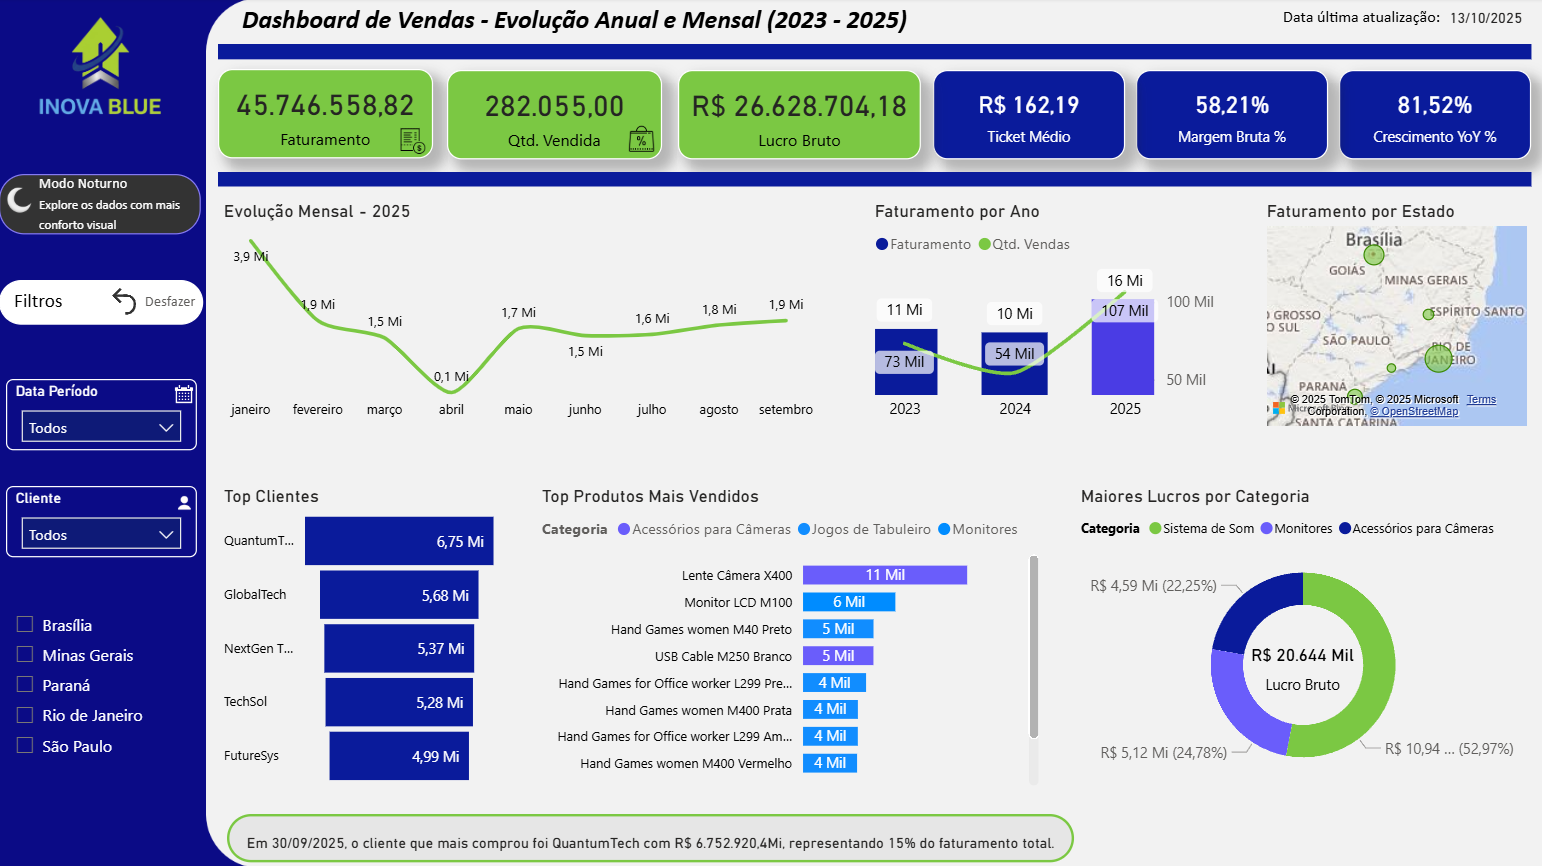

The dashboard page shown, as its layout file describes it:
{"tool":"powerbi","page":{"name":"Dark","canvas":[1280,720],"ordinal":1},"visuals":[{"type":"shape","box":[2.6,148.4,166.8,49.2],"z":0},{"type":"lineClusteredColumnComboChart","title":"Faturamento por Ano","fields":{"Category":["Vendas.Data da Venda.Variation.Hierarquia de datas.Ano","Vendas.Data da Venda.Variation.Hierarquia de datas.Mês","Vendas.Data da Venda.Variation.Hierarquia de datas.Dia"],"Y":["Vendas.Faturamento"],"Y2":["Sum(Vendas.Qtd. Vendida)"]},"box":[745.9,168.1,290.7,190.4],"z":1000},{"type":"image","box":[3.5,8.8,160.7,99.2],"z":2000},{"type":"funnel","title":"Top Clientes","fields":{"Category":["Clientes.Nome Fantasia"],"Y":["Vendas.Faturamento"]},"box":[183,404.1,238,252.8],"z":3000},{"type":"textbox","box":[198,0,669.9,50.8],"z":4000},{"type":"lineChart","title":"Evolução Mensal - 2025","fields":{"Category":["Vendas.Data da Venda.Variation.Hierarquia de datas.Mês"],"Y":["Vendas.Faturamento"]},"box":[183,168.1,550.8,190.4],"z":5000},{"type":"card","fields":{"Values":["Vendas.Faturamento"]},"box":[182.9,58.9,177.5,74],"z":6000},{"type":"card","fields":{"Values":["Sum(Vendas.Qtd. Vendida)"]},"box":[372.4,59.2,177.7,74],"z":7000},{"type":"card","fields":{"Values":["Vendas.Crescimento YoY %"]},"box":[1110.7,59.2,158.7,74],"z":8000},{"type":"shape","box":[183,38.1,1087.5,12.7],"z":9000},{"type":"card","fields":{"Values":["Vendas.Media Faturamento Mensal"]},"box":[942.5,59.2,158.7,74],"z":10000},{"type":"card","fields":{"Values":["Vendas.Ticket Médio"]},"box":[774.3,59.2,158.7,74],"z":11000},{"type":"card","fields":{"Values":["Vendas.Lucro Bruto"]},"box":[563.8,59.2,201,74],"z":12000},{"type":"map","title":"Faturamento por Estado","fields":{"Category":["Vendas.Estado"],"Size":["Vendas.Faturamento"]},"box":[1046,167.8,224.7,190.6],"z":13000},{"type":"card","fields":{"Values":["Vendas.Insight Texto"]},"box":[190,675.2,701.1,40.1],"z":14000},{"type":"barChart","title":"Top Produtos Mais Vendidos","fields":{"Category":["Vendas.Produto"],"Series":["Vendas.Categoria"],"Y":["Sum(Vendas.Qtd. Vendida)"]},"box":[446.4,404.1,421,252.8],"z":15000},{"type":"shape","box":[183.3,143.9,1087.4,12.4],"z":16000},{"type":"donutChart","title":"Maiores Lucros por Categoria","fields":{"Category":["Vendas.Categoria"],"Y":["Vendas.Lucro Bruto"]},"box":[891.8,404.1,377.7,252.8],"z":17000},{"type":"card","fields":{"Values":["Vendas.Lucro Bruto"]},"box":[1027.2,525.8,106.8,54],"z":18000},{"type":"image","box":[516.2,97.3,33.9,38.1],"z":19000},{"type":"image","box":[324.8,97.3,34.9,38.1],"z":20000},{"type":"card","fields":{"Values":["Vendas.DataAtualizacaoHoje"]},"box":[1194.5,0,76.2,35.3],"z":21000},{"type":"textbox","box":[1058.9,1.1,173.5,36],"z":22000},{"type":"textbox","box":[9.3,235.9,78,31.6],"z":23000},{"type":"actionButton","box":[89.2,231.2,79,39],"z":24000},{"type":"slicer","fields":{"Values":["Vendas.Estado"]},"box":[3.7,500.7,164.4,177.4],"z":25000},{"type":"slicer","title":"     Data Período","fields":{"Values":["Vendas.Data da Venda.Variation.Hierarquia de datas.Ano","Vendas.Data da Venda.Variation.Hierarquia de datas.Mês","Vendas.Data da Venda.Variation.Hierarquia de datas.Dia"]},"box":[7.4,315,157.9,58.5],"z":26000},{"type":"slicer","title":"Cliente","fields":{"Values":["Clientes.Nome Fantasia"]},"box":[7.4,404.1,157.9,58.5],"z":27000},{"type":"shape","box":[1.9,233.1,169.1,37.2],"z":28000},{"type":"image","box":[136.5,402.3,36.2,26.9],"z":29000},{"type":"image","box":[132.8,315,42.7,25.1],"z":30000},{"type":"actionButton","box":[91.9,231.7,78.6,39.7],"z":31000},{"type":"textbox","box":[5.3,236.2,82.5,35.1],"z":32000},{"type":"textbox","box":[32.2,140.9,131.7,67.2],"z":33000},{"type":"image","box":[1.8,157.2,36.9,34.2],"z":34000},{"type":"actionButton","box":[4.1,144,165.5,57.9],"z":35000}]}

Visuals, with their boxes in screenshot pixels (x1, y1, x2, y2), scaled from the page's 1280x720 canvas onto the 1542x866 screenshot:
shape: x1=3, y1=178, x2=204, y2=238
"Faturamento por Ano" lineClusteredColumnComboChart: x1=899, y1=202, x2=1249, y2=431
image: x1=4, y1=11, x2=198, y2=130
"Top Clientes" funnel: x1=220, y1=486, x2=507, y2=790
textbox: x1=239, y1=0, x2=1046, y2=61
"Evolução Mensal - 2025" lineChart: x1=220, y1=202, x2=884, y2=431
card - Vendas.Faturamento: x1=220, y1=71, x2=434, y2=160
card - Sum(Vendas.Qtd. Vendida): x1=449, y1=71, x2=663, y2=160
card - Vendas.Crescimento YoY %: x1=1338, y1=71, x2=1529, y2=160
shape: x1=220, y1=46, x2=1531, y2=61
card - Vendas.Media Faturamento Mensal: x1=1135, y1=71, x2=1327, y2=160
card - Vendas.Ticket Médio: x1=933, y1=71, x2=1124, y2=160
card - Vendas.Lucro Bruto: x1=679, y1=71, x2=921, y2=160
"Faturamento por Estado" map: x1=1260, y1=202, x2=1531, y2=431
card - Vendas.Insight Texto: x1=229, y1=812, x2=1073, y2=860
"Top Produtos Mais Vendidos" barChart: x1=538, y1=486, x2=1045, y2=790
shape: x1=221, y1=173, x2=1531, y2=188
"Maiores Lucros por Categoria" donutChart: x1=1074, y1=486, x2=1529, y2=790
card - Vendas.Lucro Bruto: x1=1237, y1=632, x2=1366, y2=697
image: x1=622, y1=117, x2=663, y2=163
image: x1=391, y1=117, x2=433, y2=163
card - Vendas.DataAtualizacaoHoje: x1=1439, y1=0, x2=1531, y2=42
textbox: x1=1276, y1=1, x2=1485, y2=45
textbox: x1=11, y1=284, x2=105, y2=322
actionButton: x1=107, y1=278, x2=203, y2=325
slicer - Vendas.Estado: x1=4, y1=602, x2=203, y2=816
"     Data Período" slicer: x1=9, y1=379, x2=199, y2=449
"Cliente" slicer: x1=9, y1=486, x2=199, y2=556
shape: x1=2, y1=280, x2=206, y2=325
image: x1=164, y1=484, x2=208, y2=516
image: x1=160, y1=379, x2=211, y2=409
actionButton: x1=111, y1=279, x2=205, y2=326
textbox: x1=6, y1=284, x2=106, y2=326
textbox: x1=39, y1=169, x2=197, y2=250
image: x1=2, y1=189, x2=47, y2=230
actionButton: x1=5, y1=173, x2=204, y2=243
